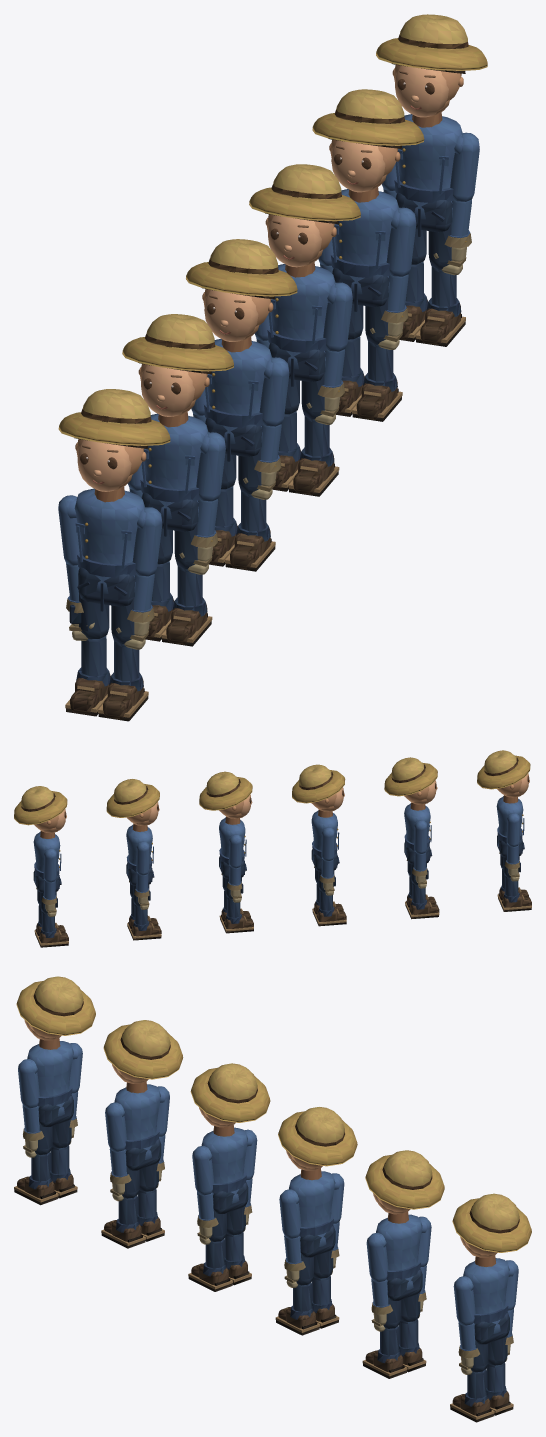
File: ba-idle-side-before.glb
3 views of the same model, one above another, from view 1: azimuth 30°, elevation 25°; view 2: azimuth 150°, elevation 25°; view 3: azimuth 270°, elevation 25° (orthographic). The views are drawn at different scales.
Visible parts, largest first — view 1: denimJacketTorso (×6), strawHat (×6), head (×6), leftShin (×6), leftUpperArm (×6), rightShin (×6), trouserHips (×6), rightThigh, rightUpperArm; view 2: strawHat (×6), denimJacketTorso (×6), rightShin (×6), rightUpperArm (×6), head (×6); view 3: strawHat (×6), denimJacketTorso (×6), leftShin (×6), rightShin (×6), leftUpperArm (×6), trouserHips (×6).
Part boxes in pixels (x1,y1,x2,y2): denimJacketTorso (×6): [74, 112, 462, 593]; strawHat (×6): [58, 14, 487, 445]; head (×6): [74, 63, 465, 491]; leftShin (×6): [98, 266, 465, 721]; leftUpperArm (×6): [132, 132, 479, 576]; rightShin (×6): [65, 261, 427, 716]; trouserHips (×6): [77, 193, 452, 611]; rightThigh: [69, 593, 109, 639]; rightUpperArm: [58, 495, 79, 565]; strawHat (×6): [14, 750, 530, 825]; denimJacketTorso (×6): [33, 795, 524, 882]; rightShin (×6): [37, 876, 531, 947]; rightUpperArm (×6): [43, 812, 520, 882]; head (×6): [34, 773, 529, 833]; strawHat (×6): [16, 976, 531, 1252]; denimJacketTorso (×6): [27, 1038, 509, 1335]; leftShin (×6): [14, 1152, 494, 1422]; rightShin (×6): [50, 1145, 513, 1415]; leftUpperArm (×6): [18, 1059, 475, 1325]; trouserHips (×6): [38, 1095, 509, 1344].
Size of what is drawn, in the model's own units: 5.98 by 2.41 by 5.19.
